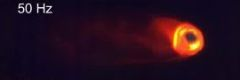keyhole: (181, 30, 200, 46)
